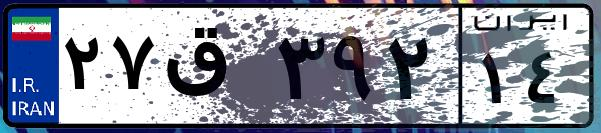1: (475, 38, 525, 113)
2: (385, 28, 445, 110), (57, 26, 110, 100)
3: (270, 28, 330, 110)
4: (525, 38, 570, 115)
7: (110, 28, 158, 98)
9: (330, 28, 385, 110)
ق: (158, 20, 270, 120)
